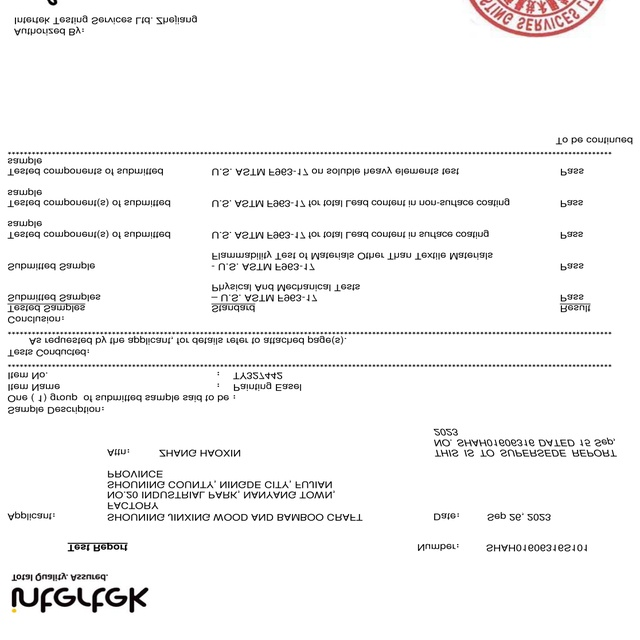intertek: (0, 579, 149, 622)
